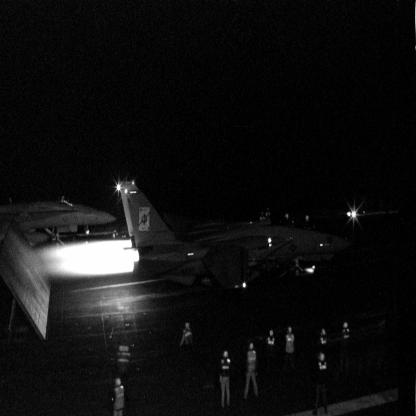F14: (119, 181, 355, 303)
F18: (1, 197, 118, 251)
